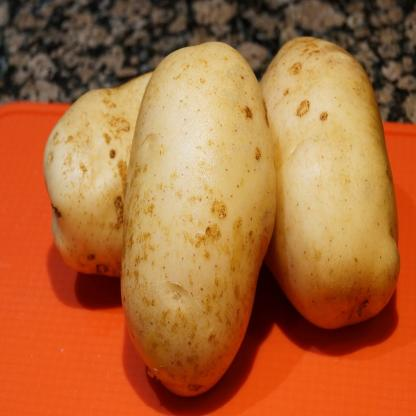--: (121, 32, 280, 400), (259, 8, 401, 342)
